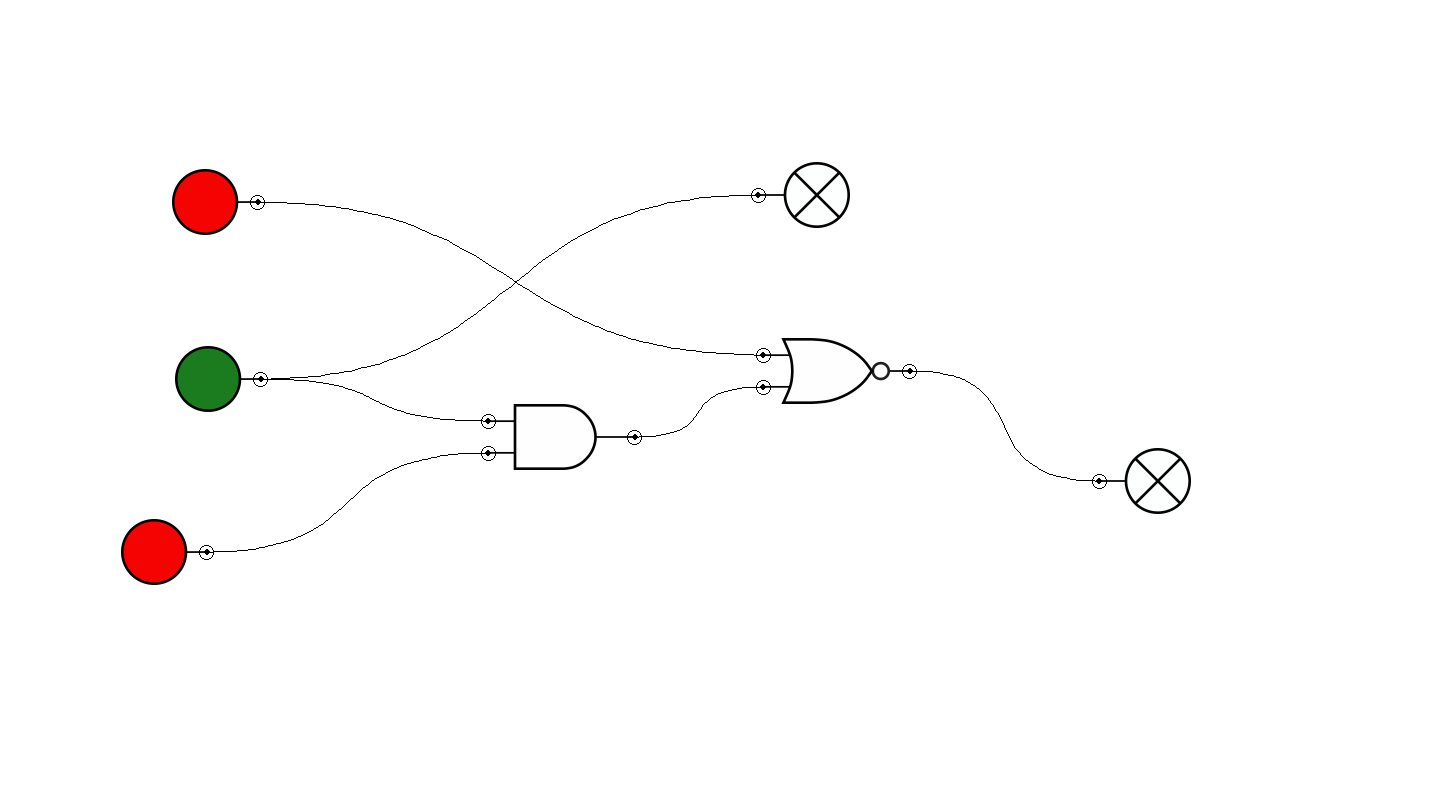and: (481, 404, 642, 470)
bulb: (751, 162, 850, 228), (1092, 448, 1191, 514)
nor: (756, 338, 917, 404)
switch_False: (172, 169, 265, 235), (121, 519, 214, 585)
switch_True: (175, 346, 268, 412)
